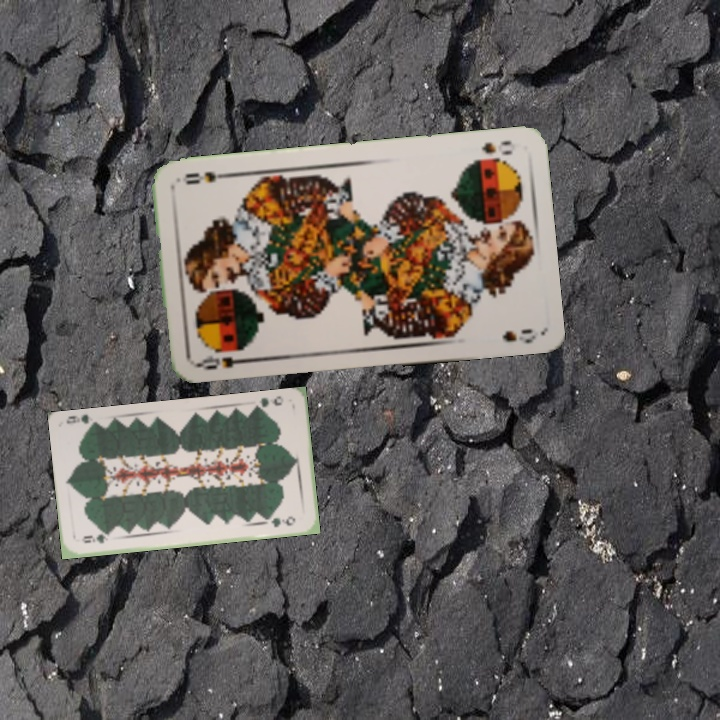G9: (251, 392, 286, 413), (78, 530, 112, 546)
SO: (191, 351, 250, 372), (478, 137, 515, 158)
